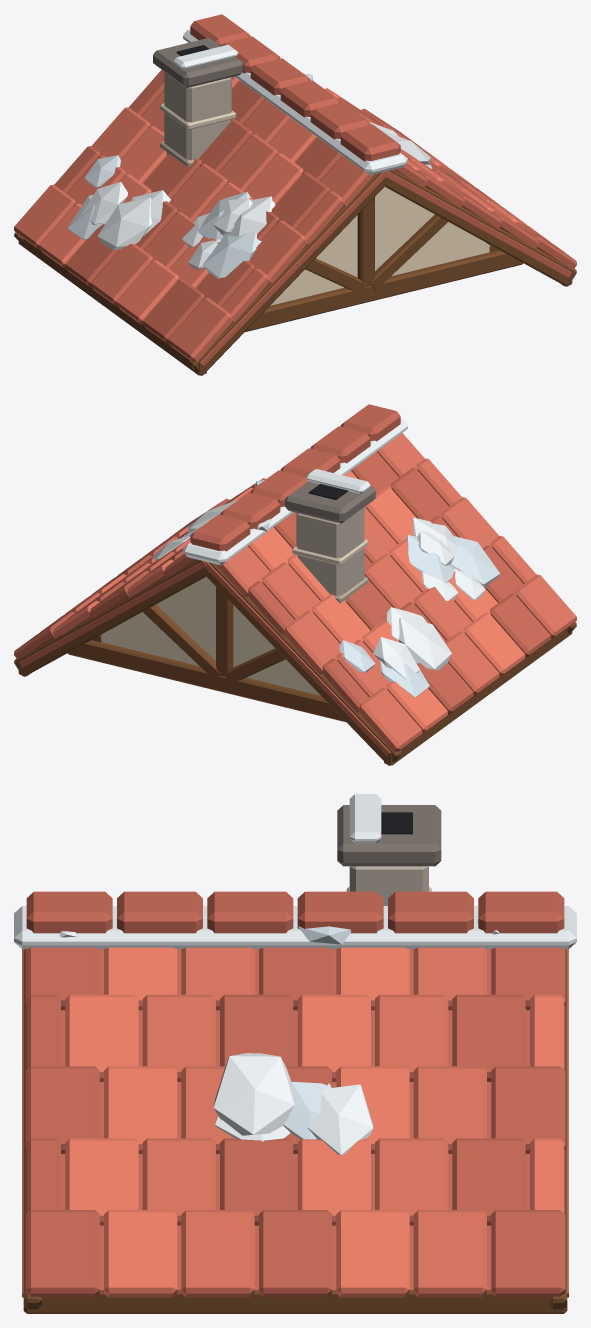
The model's file is mod_roof_treehouse.glb.
The picture shows the model from 3 angles, top to bottom: view 1: azimuth 30°, elevation 25°; view 2: azimuth 150°, elevation 25°; view 3: azimuth 270°, elevation 25°; orthographic projection. The views are drawn at different scales.
Visible parts, largest first — view 1: mod_roof_treehouse; view 2: mod_roof_treehouse; view 3: mod_roof_treehouse.
Part boxes in pixels (x1=…): mod_roof_treehouse: x1=14, y1=14, x2=576, y2=375; mod_roof_treehouse: x1=14, y1=404, x2=576, y2=765; mod_roof_treehouse: x1=14, y1=794, x2=576, y2=1313.
Bounding box in the file's own units: 3.22 × 1.68 × 2.7.
